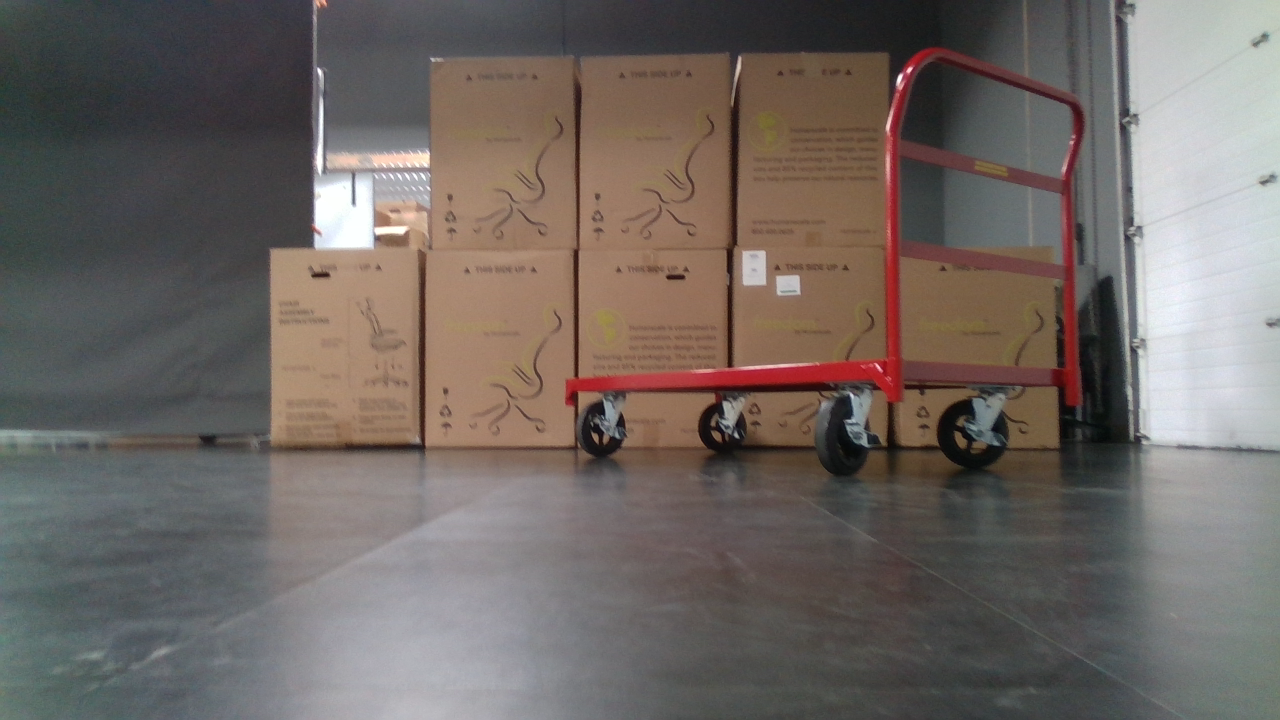Dolly: (567, 47, 1086, 475)
Wheel: (935, 389, 1011, 464), (811, 394, 877, 475), (574, 395, 629, 456), (697, 396, 749, 454)
